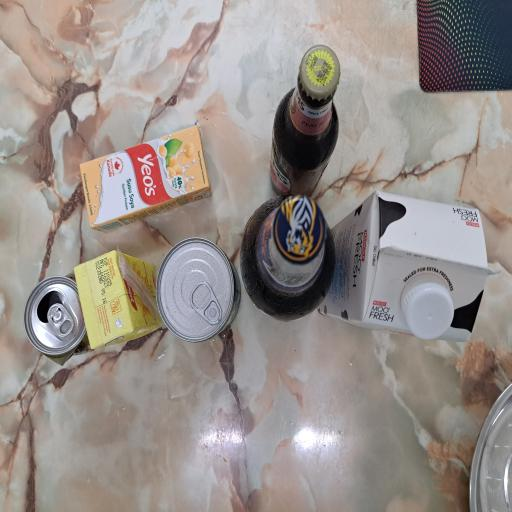can: (156, 236, 241, 342), (23, 274, 88, 366)
drink carton: (320, 191, 492, 344), (80, 123, 212, 230), (74, 248, 164, 350)
glass bottle: (239, 194, 336, 322), (271, 44, 340, 199)
plastic bottle cap: (403, 282, 455, 340)
pop tab: (190, 282, 222, 326), (48, 303, 74, 338)
